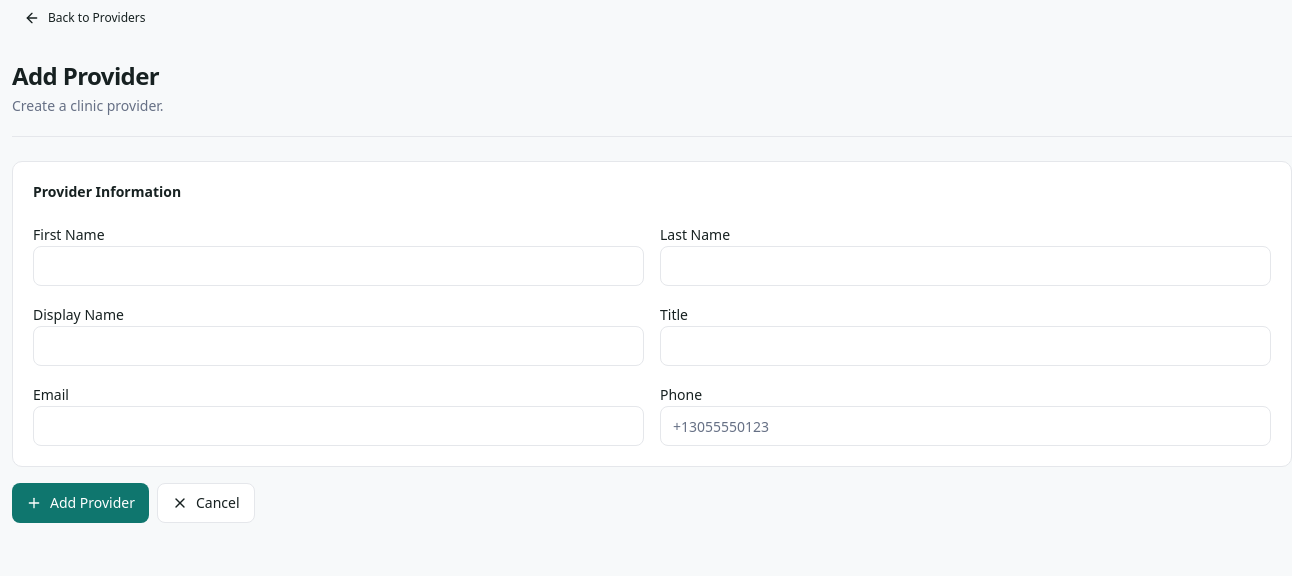
Test: unified clinic configuration edits › keeps an unknown provider save failure at form level
In the field labelled "First Name": (338, 266) [33,246,644,286], type "Ada"
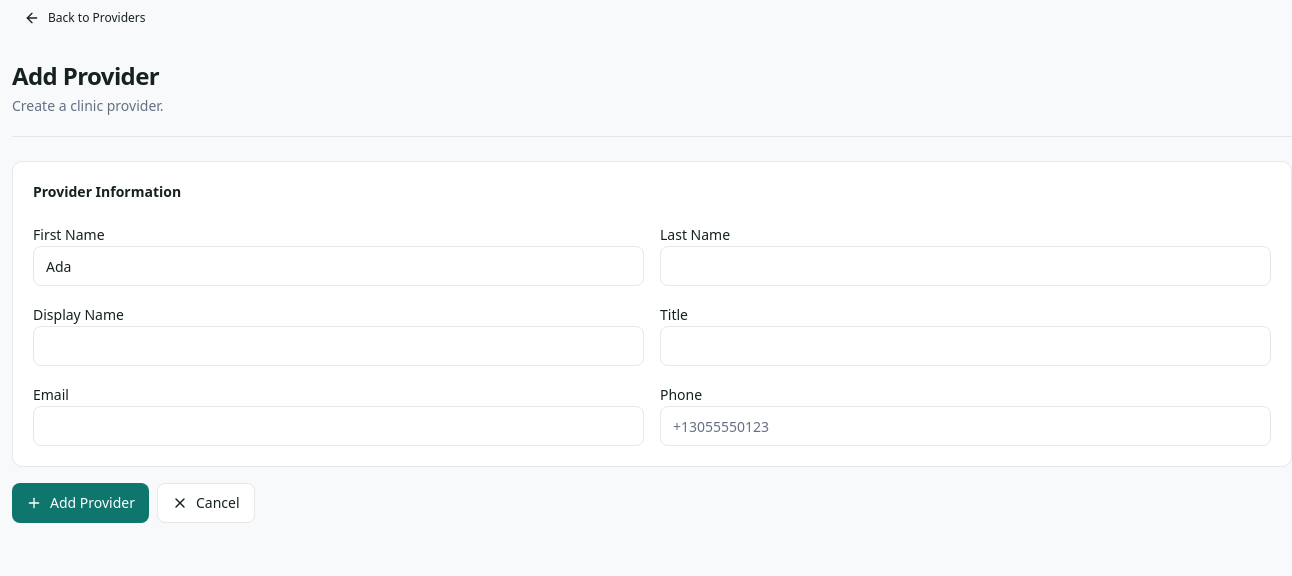
In the field labelled "Last Name": (966, 266) [660,246,1271,286], type "Lovelace"
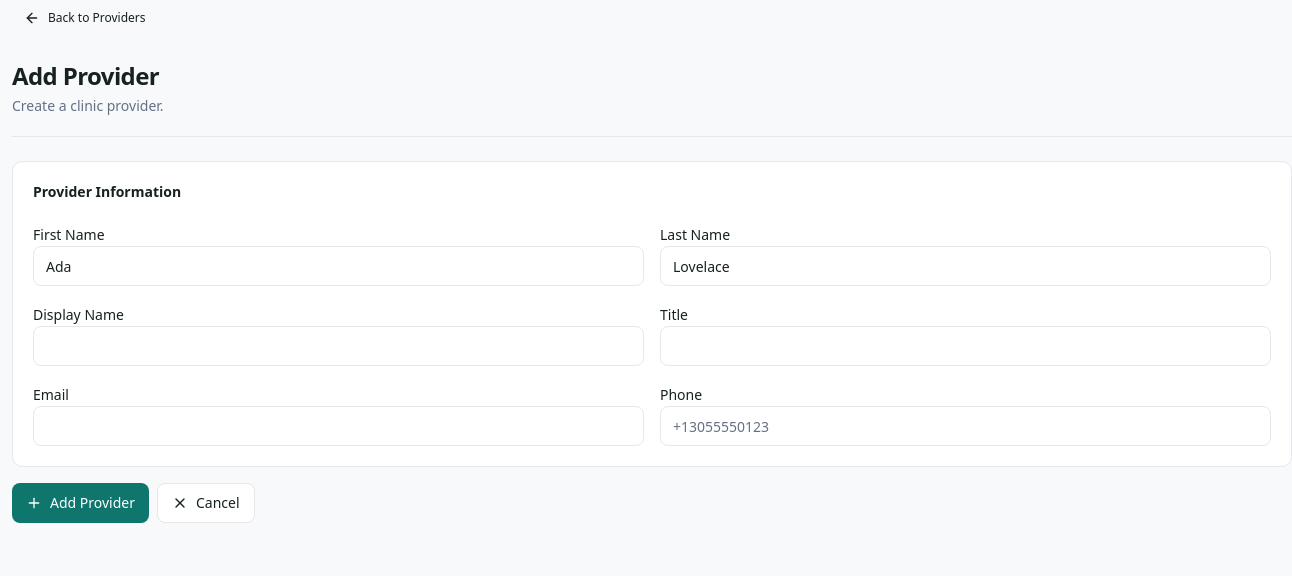
Click the button "Add Provider": (80, 503) [12,483,149,523]
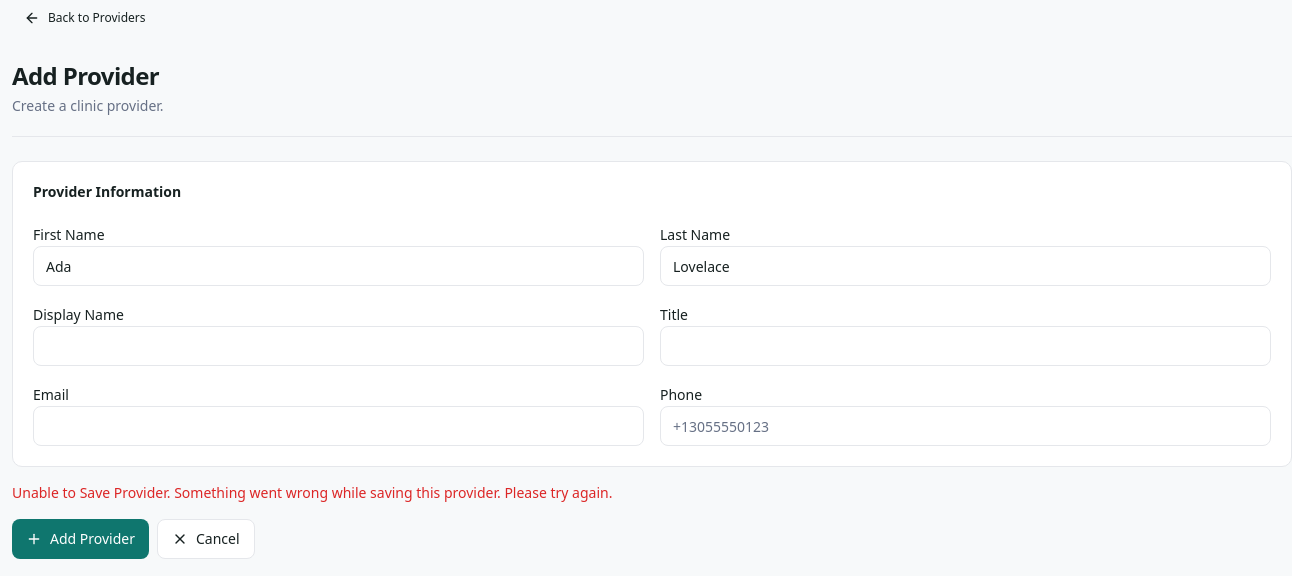
Result: the text "Unable to Save Provider" is shown at [12,483,612,502]
